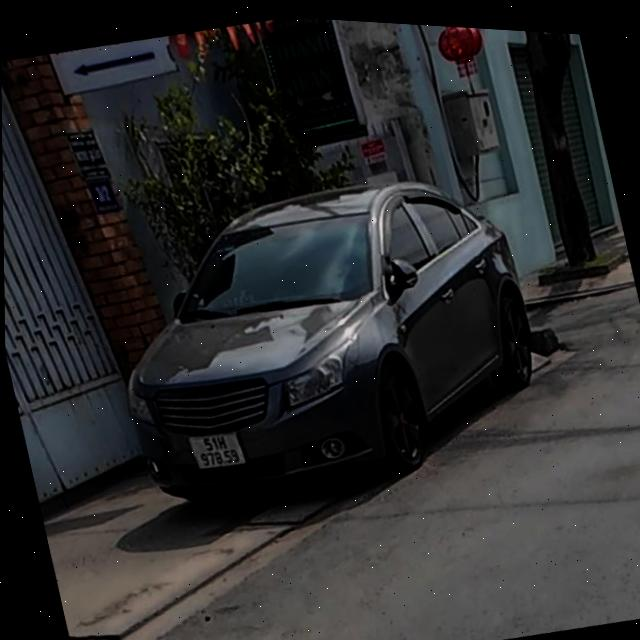car: (86, 135, 568, 546)
plate: (182, 420, 251, 480)
